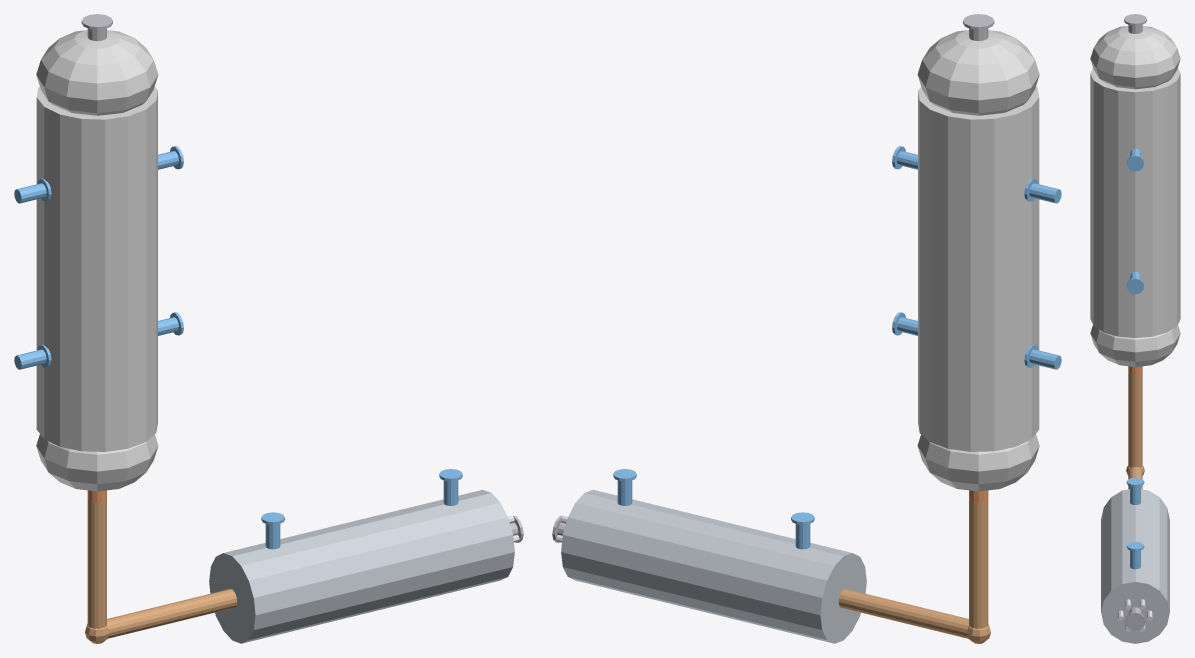
File: Reactor base model.fbx
3 views of the same model, side by side, from view 1: azimuth 30°, elevation 25°; view 2: azimuth 150°, elevation 25°; view 3: azimuth 270°, elevation 25° (orthographic). The views are drawn at different scales.
Parts seen in each view (by area): view 1: Reactor_Shell, HX_Shell, Cap_Top, Cap_Bottom, HX_Cap_Right, Pipe_Horizontal, Pipe_Vertical; view 2: Reactor_Shell, HX_Shell, Cap_Top, Cap_Bottom, HX_Cap_Right, Pipe_Horizontal, Pipe_Vertical; view 3: Reactor_Shell, HX_Shell, Cap_Top, HX_Cap_Left, Cap_Bottom, Pipe_Vertical, HX_Nozzle_GasOut_flange, CW_In_Lower_flange, Nozzle_Feed_Inlet_flange, CW_In_Upper_flange, HX_Nozzle_CoolIn, HX_Nozzle_CoolOut (+2 smaller).
Part boxes in pixels (left/top/right/bottom): Reactor_Shell: left=36, top=86, right=157, bottom=451; HX_Shell: left=226, top=491, right=512, bottom=642; Cap_Top: left=36, top=30, right=158, bottom=115; Cap_Bottom: left=36, top=434, right=158, bottom=491; HX_Cap_Right: left=209, top=552, right=260, bottom=643; Pipe_Horizontal: left=107, top=589, right=237, bottom=638; Pipe_Vertical: left=87, top=499, right=106, bottom=628; Reactor_Shell: left=918, top=86, right=1039, bottom=451; HX_Shell: left=563, top=491, right=849, bottom=642; Cap_Top: left=917, top=30, right=1039, bottom=115; Cap_Bottom: left=917, top=434, right=1039, bottom=491; HX_Cap_Right: left=815, top=552, right=866, bottom=643; Pipe_Horizontal: left=838, top=589, right=968, bottom=638; Pipe_Vertical: left=969, top=499, right=988, bottom=628; Reactor_Shell: left=1090, top=68, right=1180, bottom=337; HX_Shell: left=1101, top=490, right=1169, bottom=611; Cap_Top: left=1090, top=26, right=1180, bottom=89; HX_Cap_Left: left=1101, top=580, right=1169, bottom=643; Cap_Bottom: left=1090, top=325, right=1180, bottom=366; Pipe_Vertical: left=1128, top=373, right=1142, bottom=467; HX_Nozzle_GasOut_flange: left=1125, top=612, right=1145, bottom=630; CW_In_Lower_flange: left=1126, top=278, right=1144, bottom=294; Nozzle_Feed_Inlet_flange: left=1124, top=14, right=1146, bottom=25; CW_In_Upper_flange: left=1126, top=155, right=1144, bottom=171; HX_Nozzle_CoolIn: left=1130, top=486, right=1140, bottom=504; HX_Nozzle_CoolOut: left=1130, top=550, right=1140, bottom=569.
Size of the model in its own units: 4.71 by 5.89 by 1.
